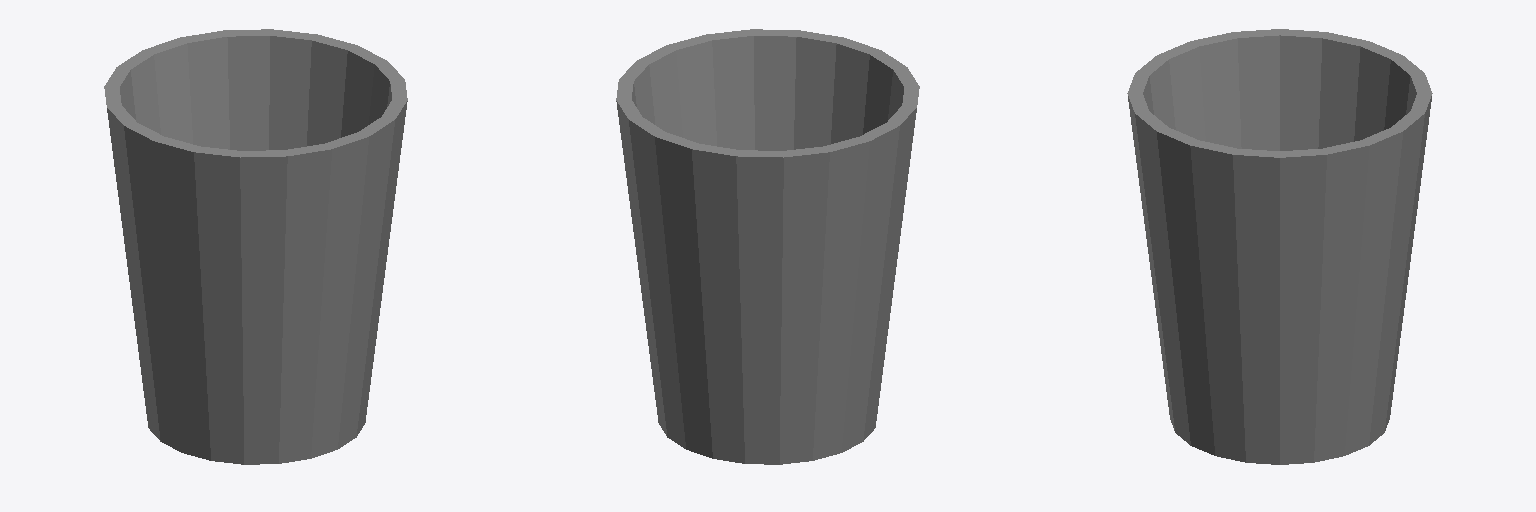
File: dados_vaso.obj
The picture shows the model from 3 angles: view 1: azimuth 30°, elevation 25°; view 2: azimuth 150°, elevation 25°; view 3: azimuth 270°, elevation 25°; orthographic projection.
Parts seen in each view (by area): view 1: VASO; view 2: VASO; view 3: VASO.
Part boxes in pixels (left/top/right/bottom): VASO: left=104, top=29, right=407, bottom=464; VASO: left=616, top=29, right=919, bottom=464; VASO: left=1127, top=29, right=1432, bottom=464.
Size of the model in its own units: 2.49 by 2.93 by 2.49.